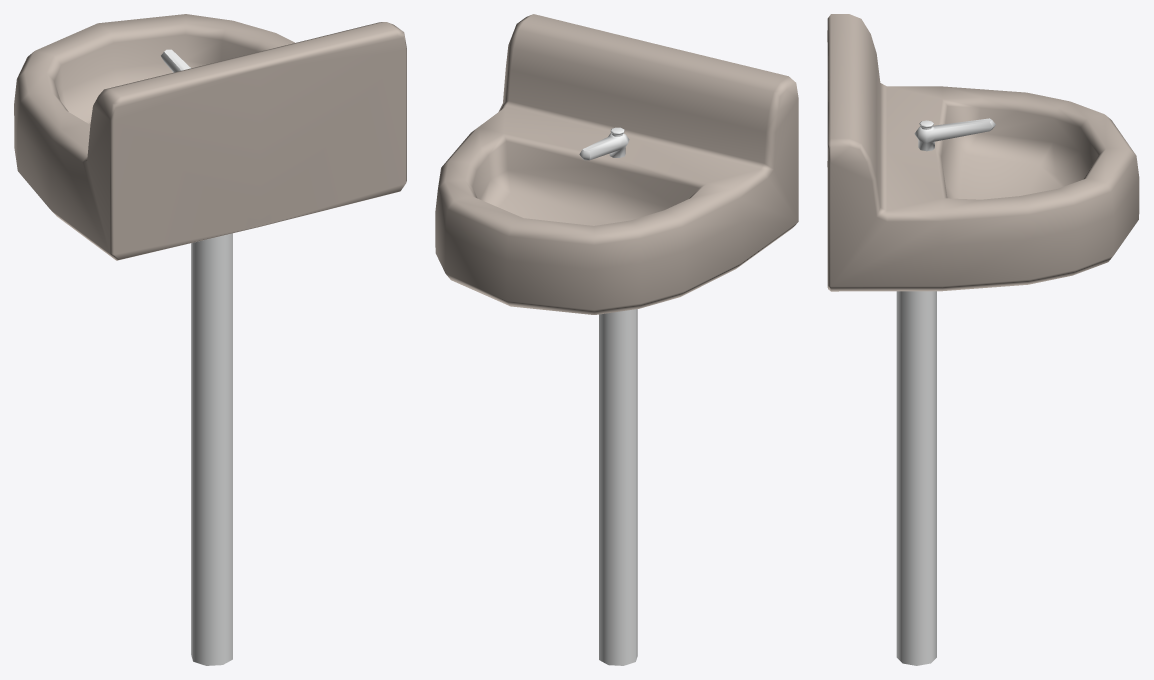
Rendered from Sink_Edit.fbx.
3 renders of one model, left to right at view 1: azimuth 30°, elevation 25°; view 2: azimuth 150°, elevation 25°; view 3: azimuth 270°, elevation 25°, orthographic. The views are drawn at different scales.
Visible parts, largest first — view 1: ceramic_sink_2; view 2: ceramic_sink_2; view 3: ceramic_sink_2.
Part boxes in pixels (x1,y1,x2,y2): ceramic_sink_2: [14, 14, 406, 665]; ceramic_sink_2: [435, 14, 798, 665]; ceramic_sink_2: [827, 14, 1139, 665].
Bounding box in the file's own units: 69.54 × 141 × 68.39.
